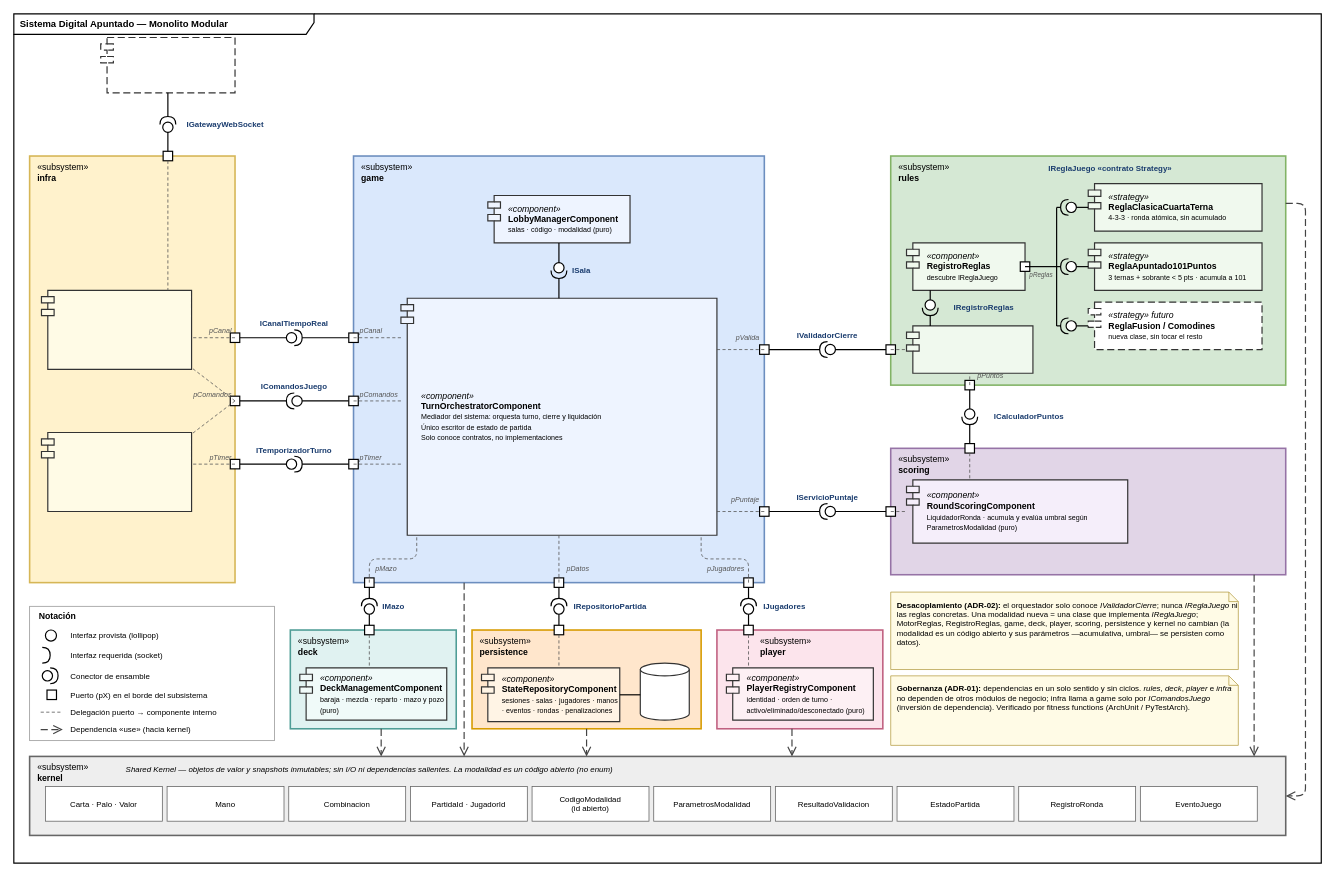
This 1336x878 diagram has some shape labels left out. The centre of each missing label's shape, as x and y in pixels:
PostgreSQL: point 664,691
«component» GatewayTiempoReal WebSocket · difunde eventos: point 116,329
«component» MotorReglas HandEvaluatorComponent: point 969,349
«component» TemporizadorTurno timer por turno · timeout: point 116,472
«external» Cliente Web / Móvil (capa de presentación): point 167,65
